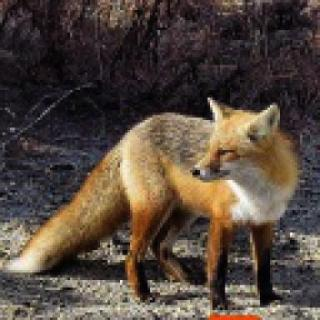fox: (5, 95, 301, 311)
